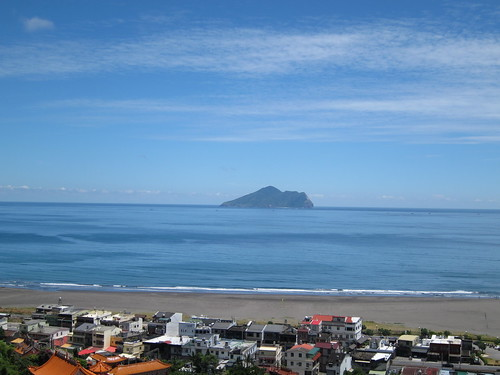turtleIsland: (219, 184, 322, 213)
